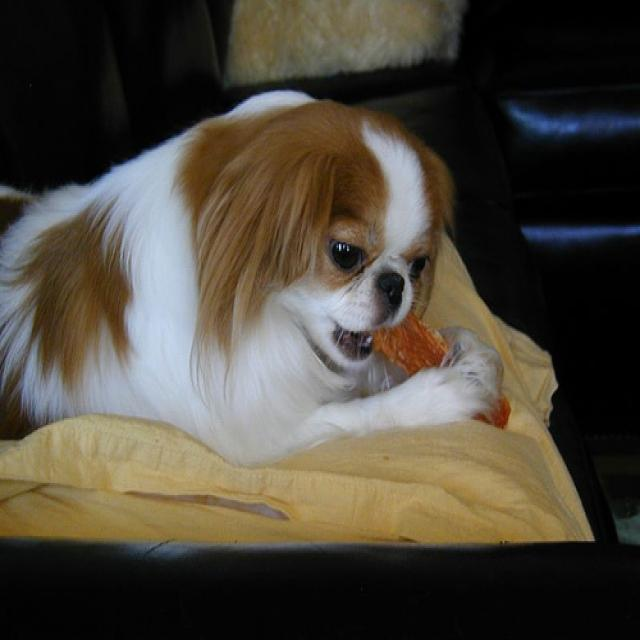dog-japanese_chin: (1, 80, 507, 478)
